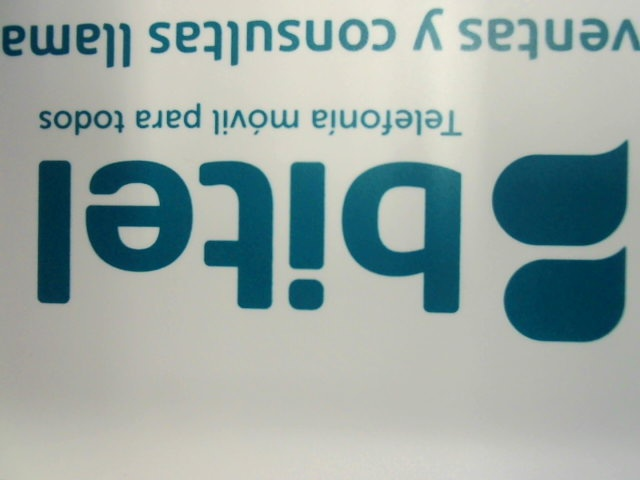BE_bitel: (16, 136, 634, 343)
